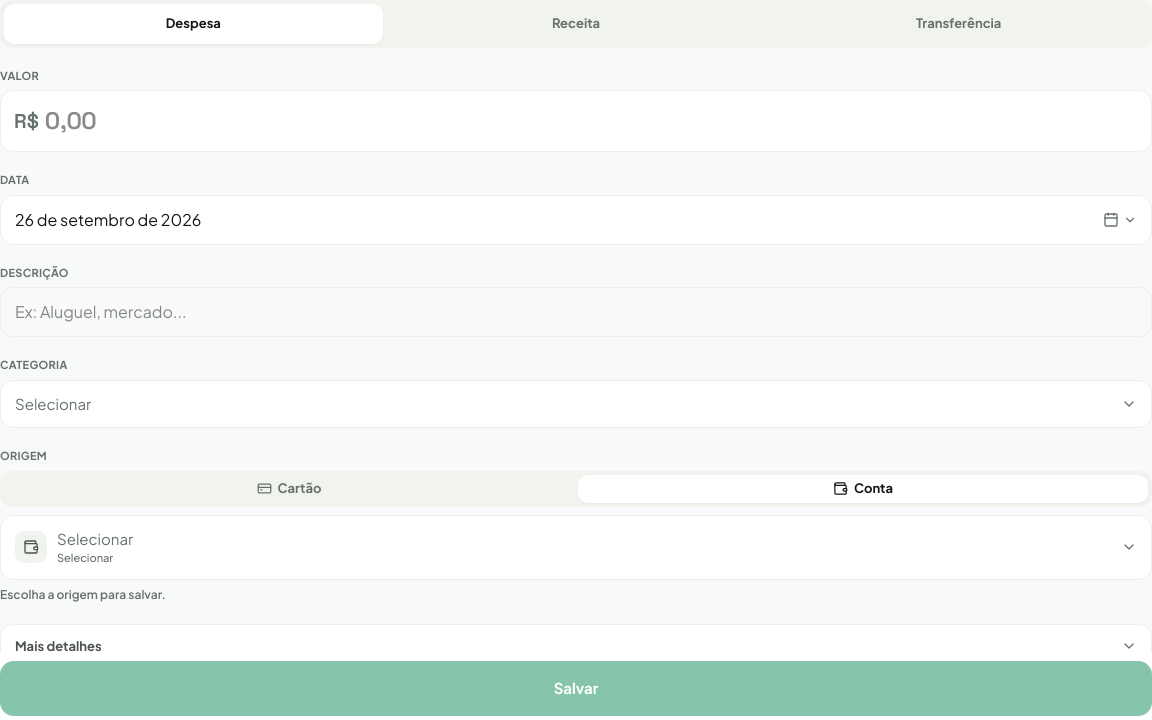
NewTransactionSheet › opens the category sheet with search, top-used and create actions
What coordinates should you click on to do the following:
click the button with aria-label "Selecionar categoria"
I would click on:
 (53, 403)
Its box is x1=0 y1=380 x2=1151 y2=428.
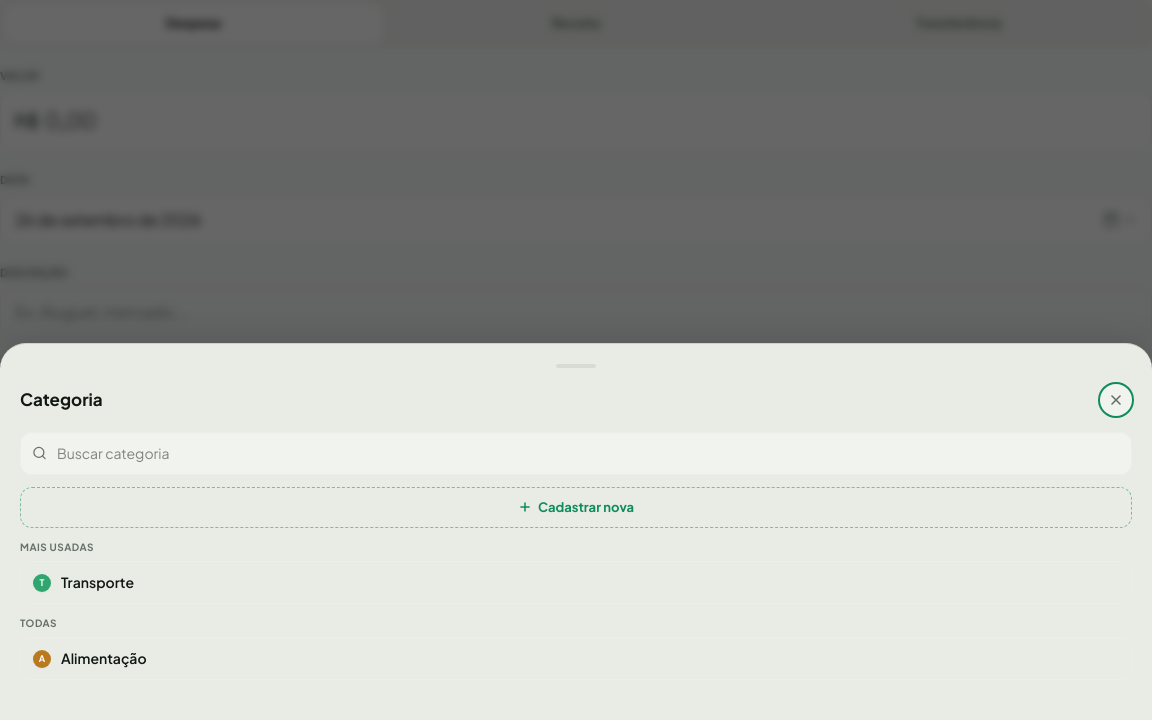
Expected: the field with placeholder "Buscar categoria" is shown, x1=20 y1=432 x2=1132 y2=474
Expected: the text "Mais usadas" is shown, x1=20 y1=541 x2=94 y2=553
Expected: the text "Todas" is shown, x1=20 y1=617 x2=57 y2=629
